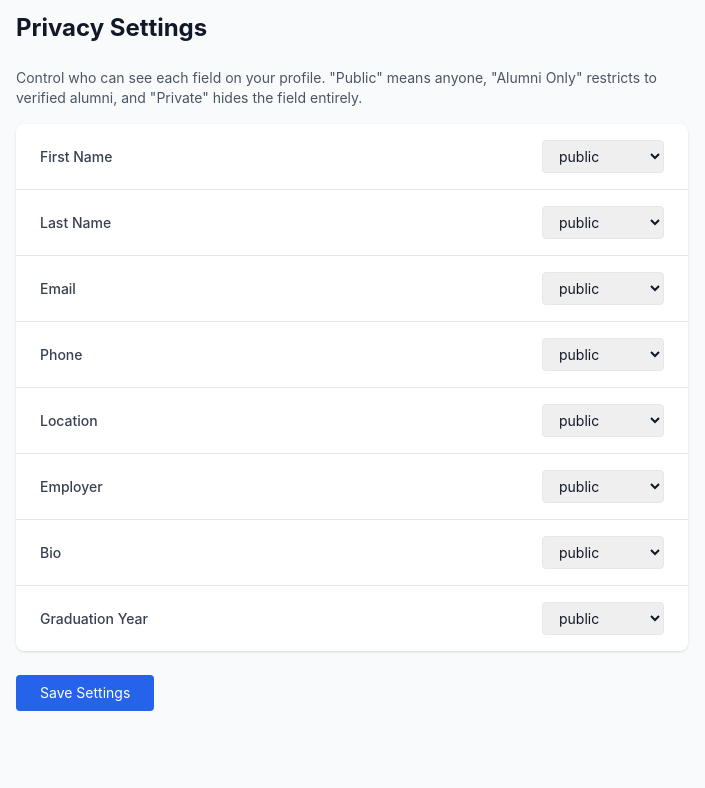
PrivacySettingsPage › shows success message after save
Click the button "Save Settings".
click(85, 693)  # box 16,675 -> 154,711
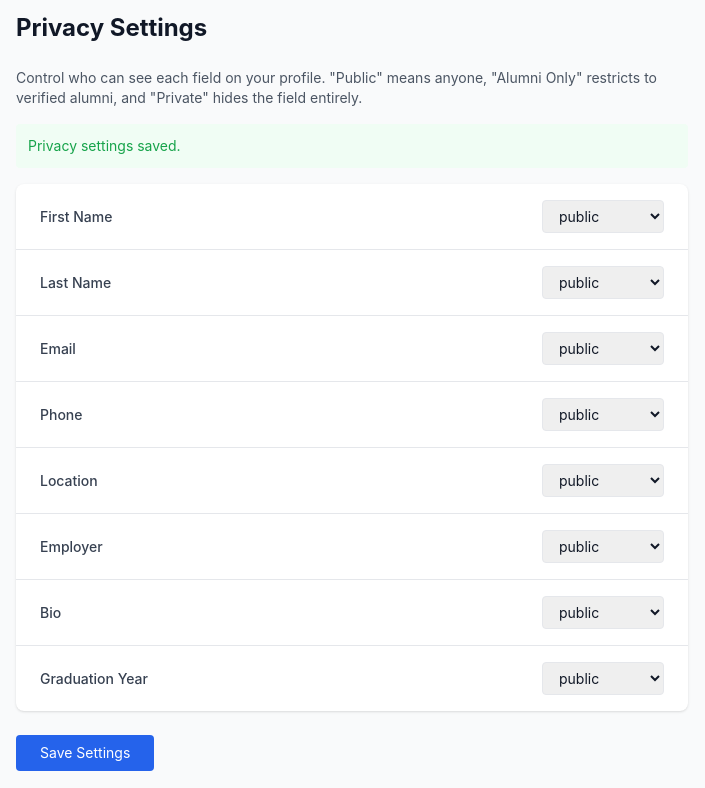
Now the text "Privacy settings saved." is shown, box 16,124 -> 688,168
